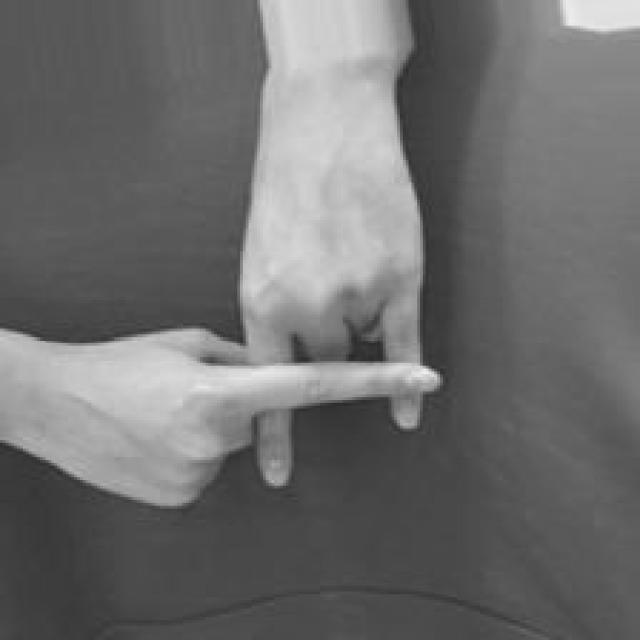H: (56, 164, 450, 514)
